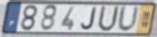4: (60, 6, 76, 32)
8: (39, 4, 59, 33), (20, 4, 39, 32)
J: (80, 7, 97, 31)
U: (96, 5, 121, 34), (116, 5, 141, 34)
